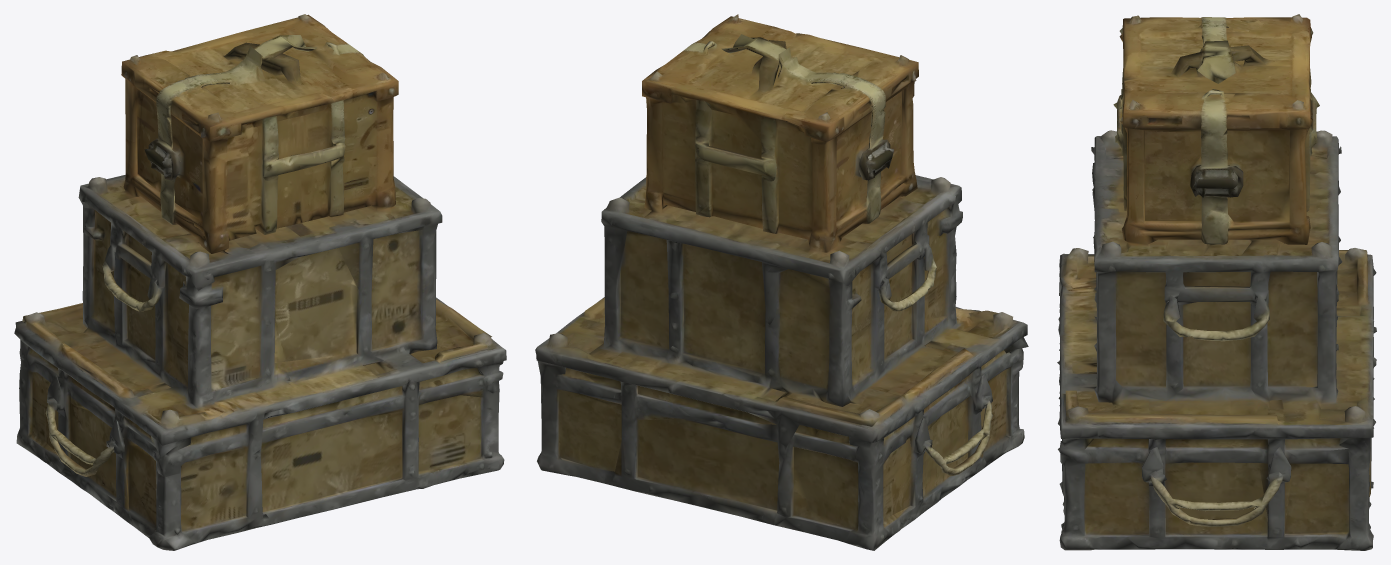
File: shuttle_cargo_crates.glb
The picture shows the model from 3 angles, left to right: view 1: azimuth 30°, elevation 25°; view 2: azimuth 150°, elevation 25°; view 3: azimuth 270°, elevation 25°; orthographic projection. The views are drawn at different scales.
Visible parts, largest first — view 1: tripo_node_5ba3b9e0-0419-464a-acc4-7feb0ff802a1; view 2: tripo_node_5ba3b9e0-0419-464a-acc4-7feb0ff802a1; view 3: tripo_node_5ba3b9e0-0419-464a-acc4-7feb0ff802a1.
Boxes of the visible parts, x1,y1,x2,y2 form: tripo_node_5ba3b9e0-0419-464a-acc4-7feb0ff802a1: (14,14,506,550); tripo_node_5ba3b9e0-0419-464a-acc4-7feb0ff802a1: (535,14,1028,550); tripo_node_5ba3b9e0-0419-464a-acc4-7feb0ff802a1: (1057,14,1376,550).
Size of the model in its own units: 0.9481 by 0.9778 by 0.6676.
Materials: 1 (1 with a texture image).
